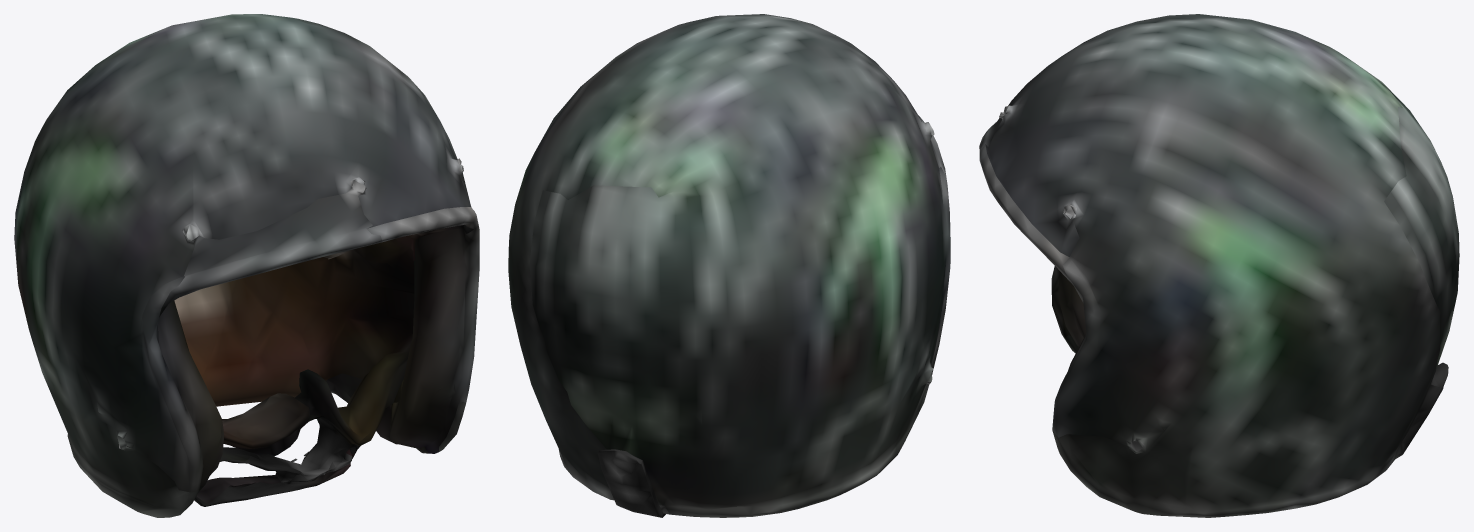
Rendered from Ortho_Forward_Facing_CkAW6rL25xH-medium.glb.
3 renders of one model, left to right at view 1: azimuth 30°, elevation 25°; view 2: azimuth 150°, elevation 25°; view 3: azimuth 270°, elevation 25°, orthographic. The views are drawn at different scales.
Visible parts, largest first — view 1: Ortho_Forward_Facing_CkAW6rL25xH; view 2: Ortho_Forward_Facing_CkAW6rL25xH; view 3: Ortho_Forward_Facing_CkAW6rL25xH.
Boxes of the visible parts, box(x1,y1,x2,y2) form: Ortho_Forward_Facing_CkAW6rL25xH: box(14, 14, 479, 517); Ortho_Forward_Facing_CkAW6rL25xH: box(508, 14, 950, 517); Ortho_Forward_Facing_CkAW6rL25xH: box(979, 14, 1459, 517).
Size of the model in its own units: 0.2508 by 0.2656 by 0.2782.
Materials: 1 (1 with a texture image).
